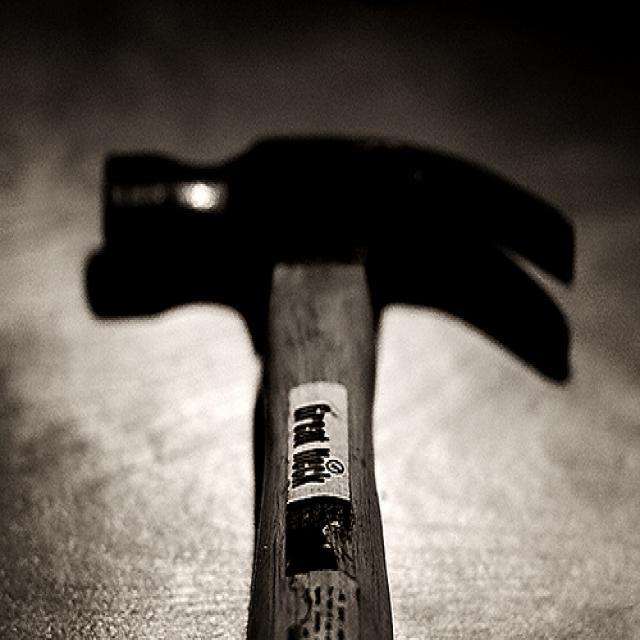hammer: (72, 106, 594, 640)
